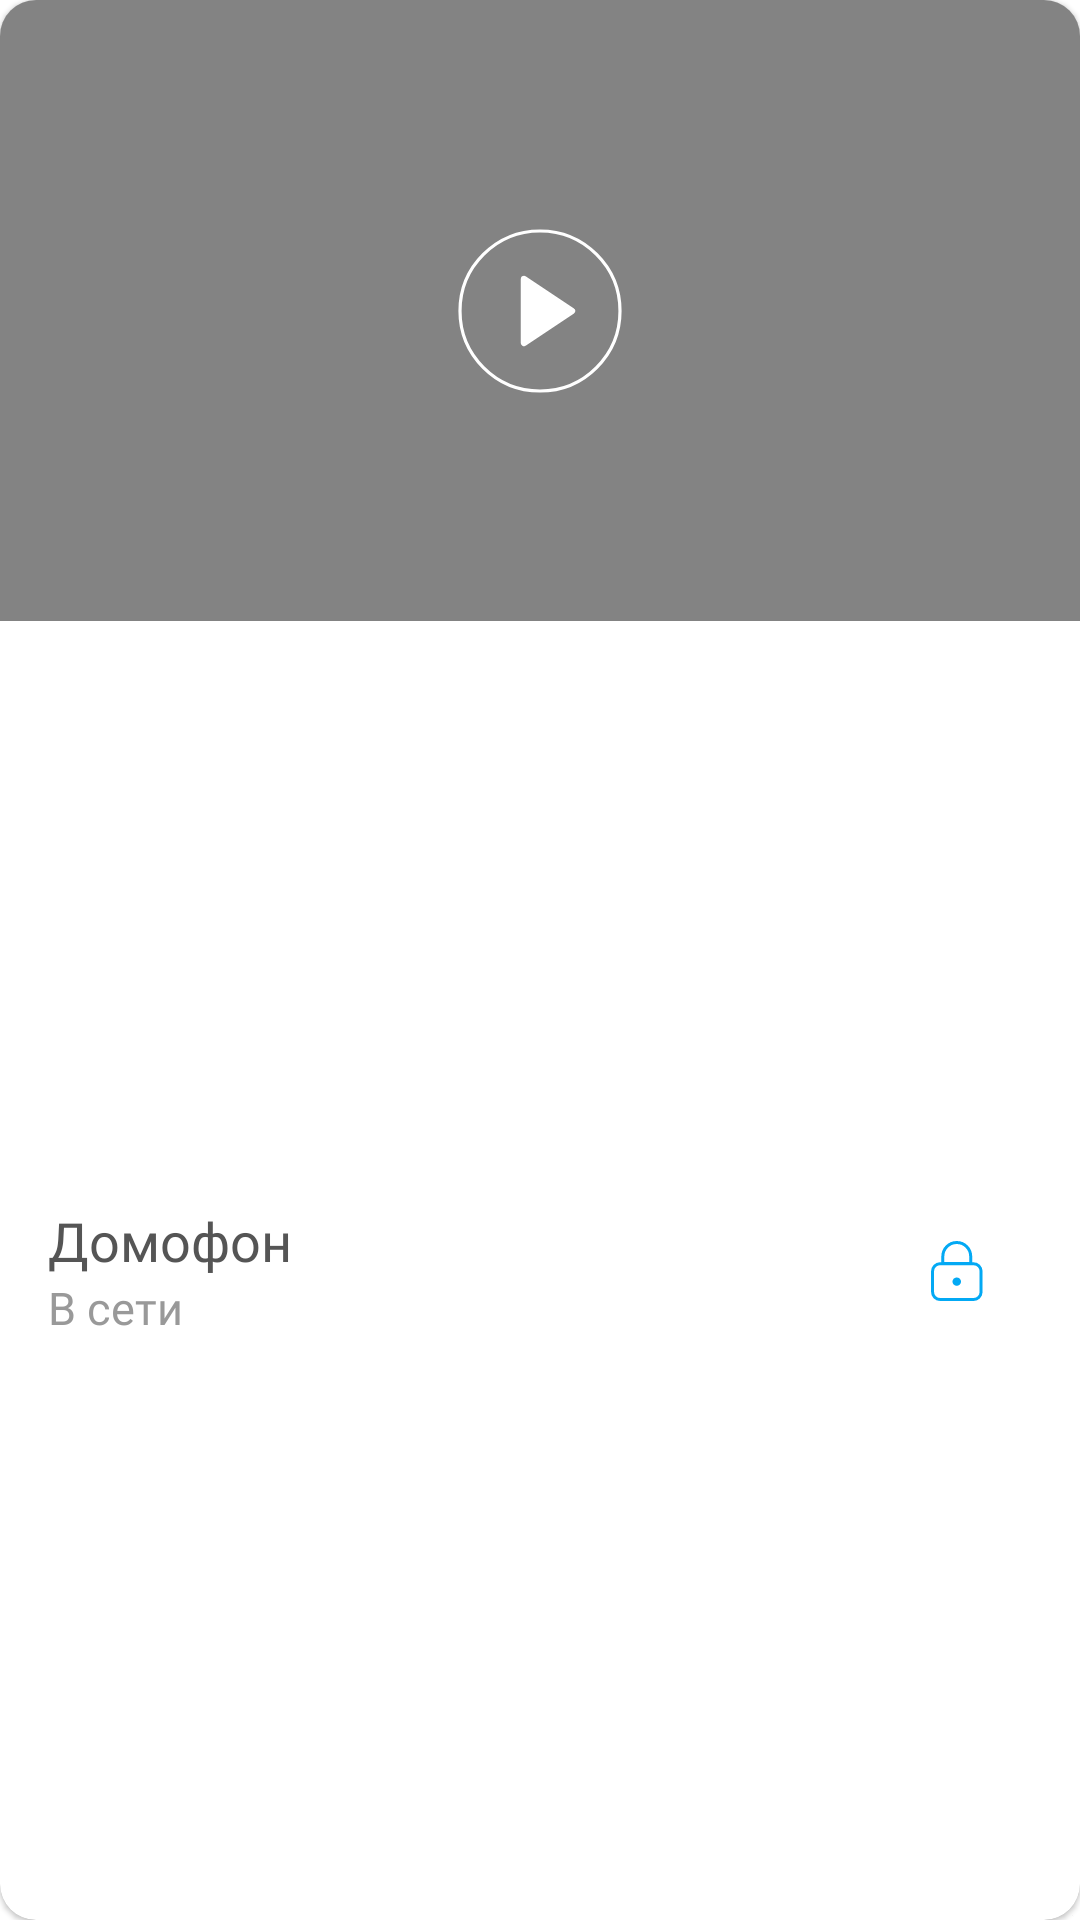

Named icons in this screenshot (1080x1920) and their bounding boxes, detection(x1, y1, x2, y2):
lockon: detection(931, 1241, 983, 1301)
play: detection(458, 229, 622, 393)
